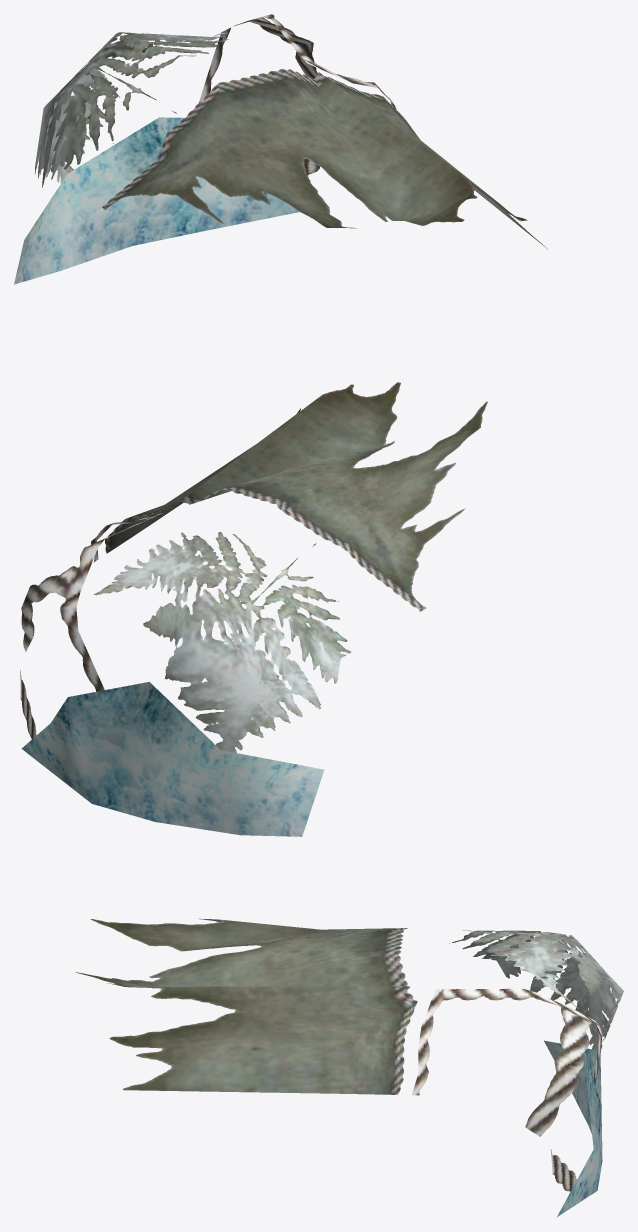
3 views of the same model, one above another, from view 1: azimuth 30°, elevation 25°; view 2: azimuth 150°, elevation 25°; view 3: azimuth 270°, elevation 25° (orthographic). The views are drawn at different scales.
Visible parts, largest first — view 1: Object44; view 2: Object44; view 3: Object44.
Part boxes in pixels (bbox=[...]): Object44: bbox=[14, 14, 547, 284]; Object44: bbox=[20, 382, 487, 836]; Object44: bbox=[75, 918, 623, 1216].
Size of the model in its own units: 36386 by 28450 by 62486.
